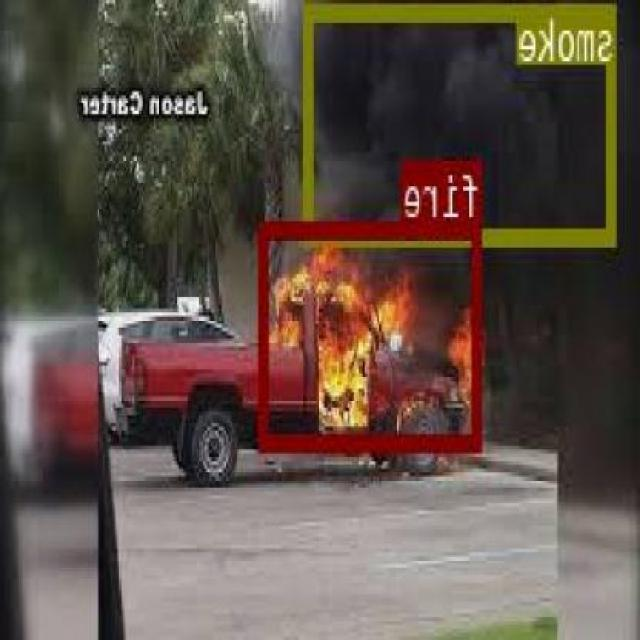Fire: (262, 217, 484, 446)
Smoke: (307, 2, 618, 244)
